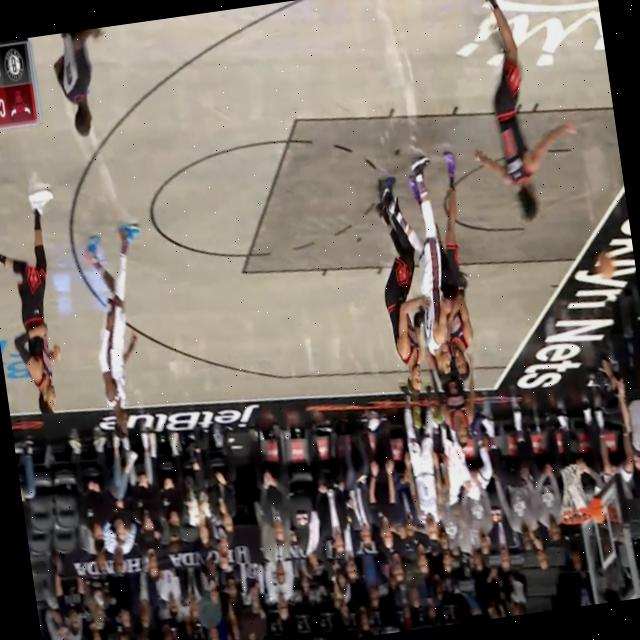foul: (342, 136, 518, 411)
no foul: (0, 152, 179, 484), (452, 0, 598, 246)
